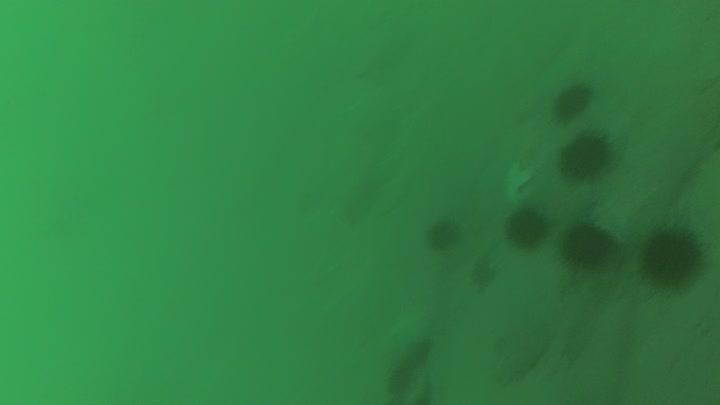echinus: (637, 221, 707, 291), (557, 128, 616, 182), (558, 218, 616, 272), (503, 204, 551, 251), (549, 79, 595, 124), (423, 215, 464, 254), (467, 255, 499, 293)
starfish: (499, 160, 536, 209)
